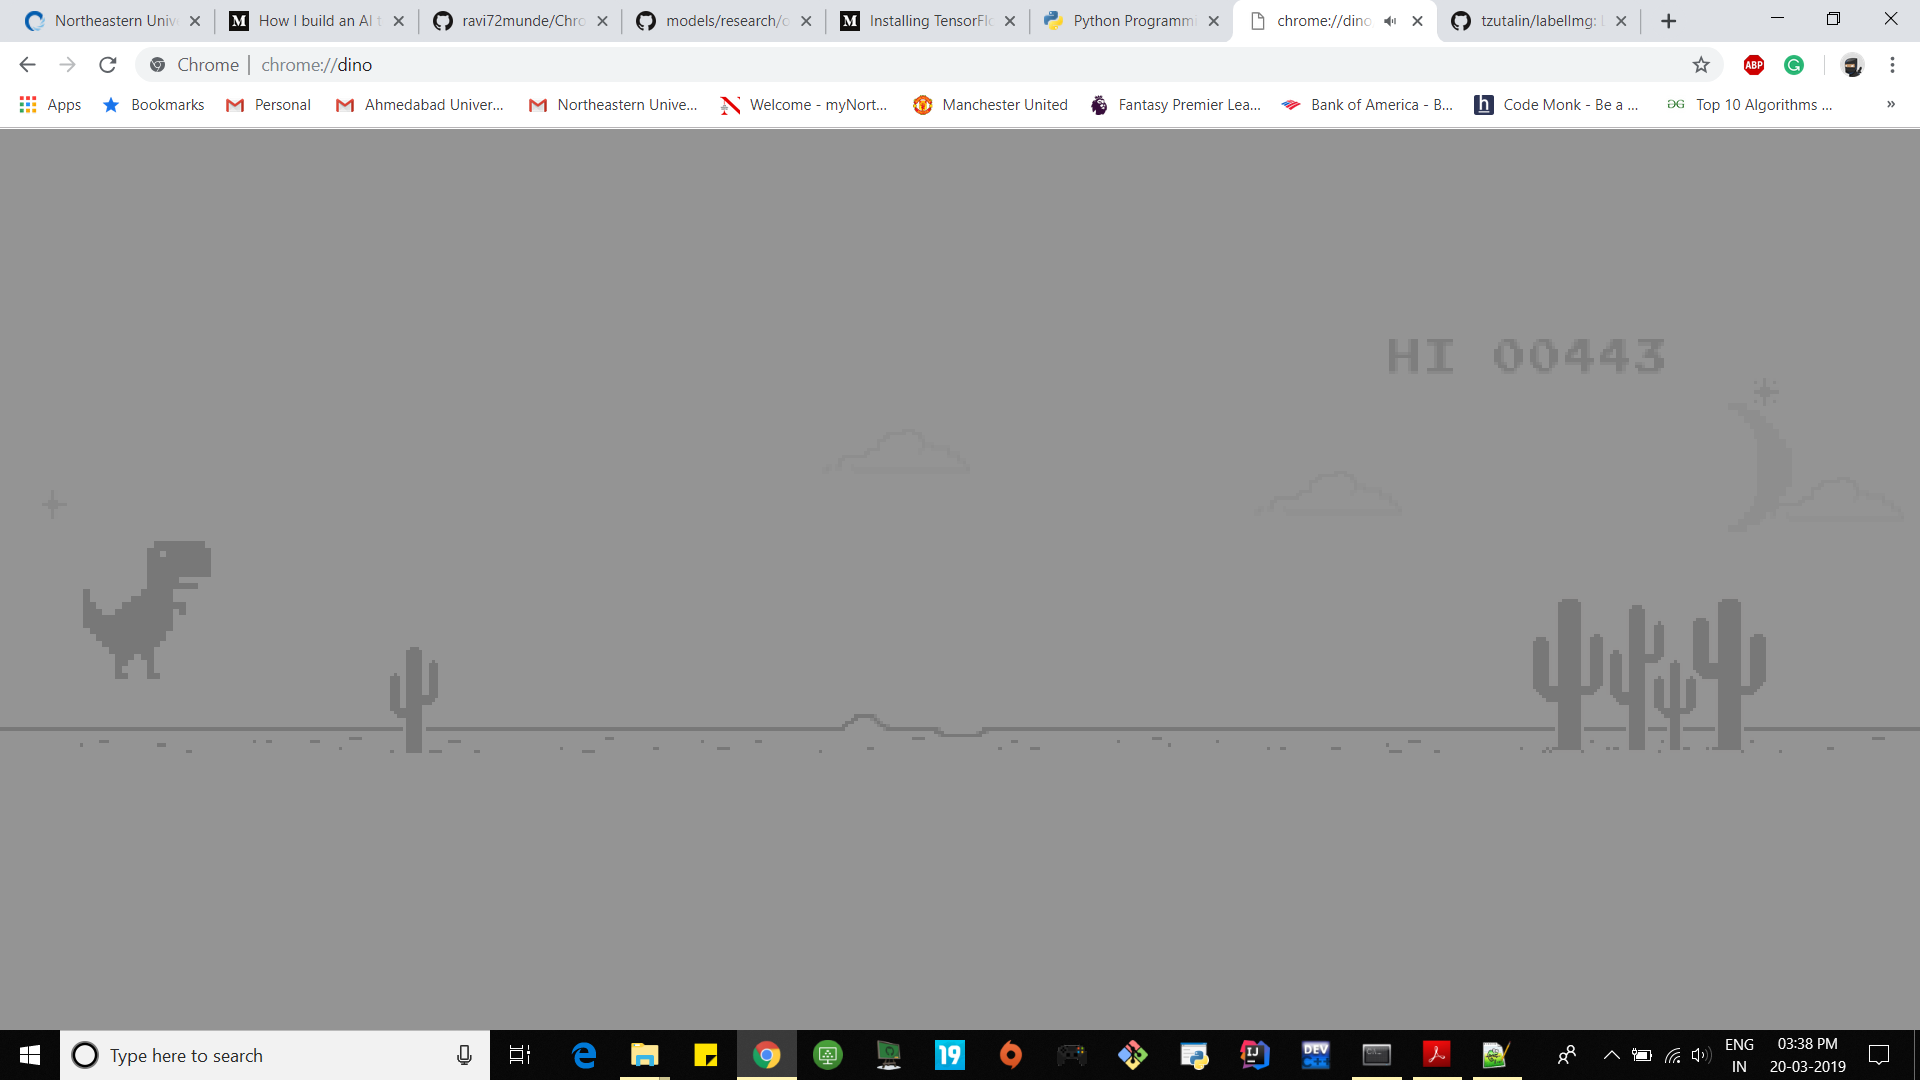cactus-4: (1530, 592, 1774, 752)
cactus-small: (386, 641, 444, 758)
dino: (79, 535, 215, 682)
